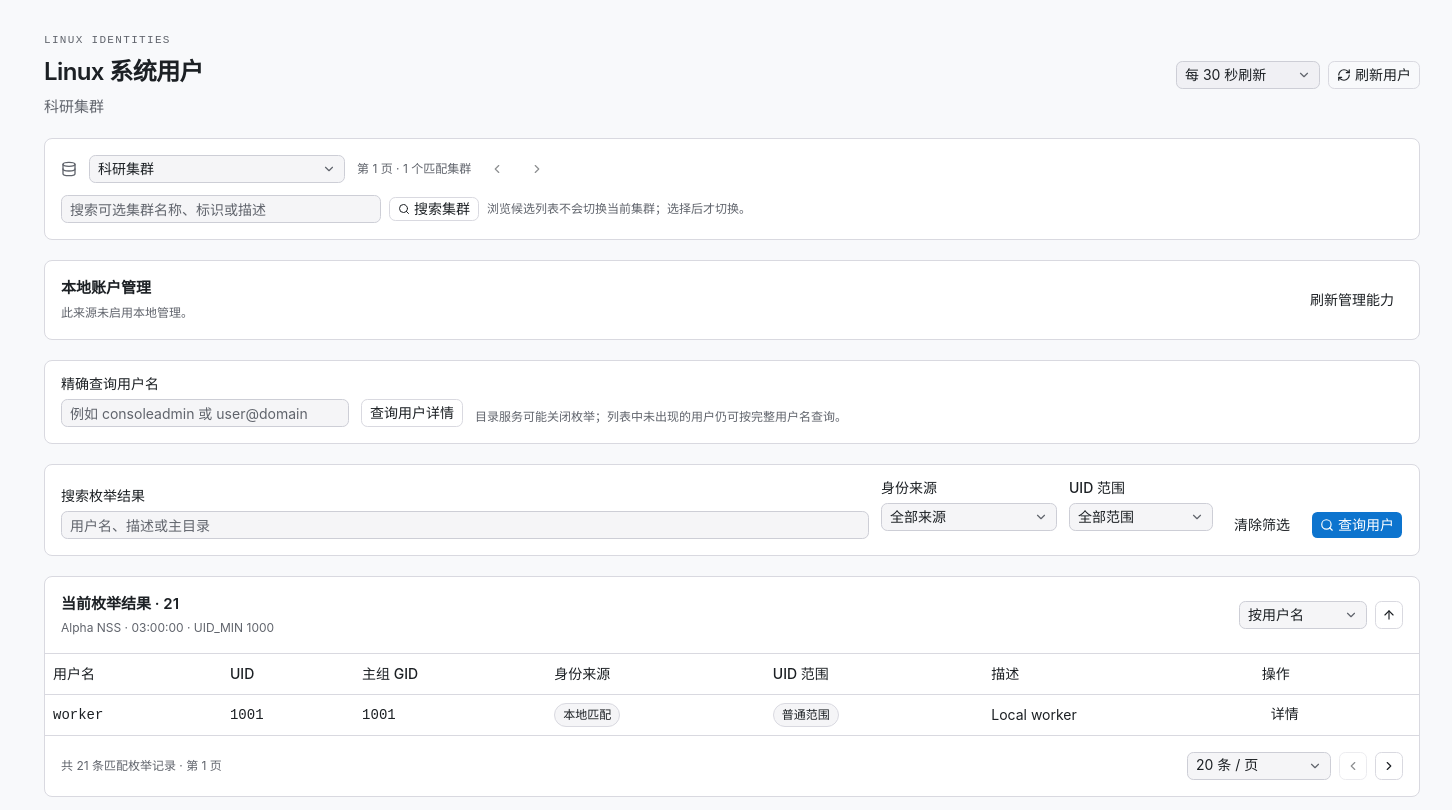
枚举查询分页、筛选和排序使用 URL，明确显示来源及 UID 范围
The image size is (1452, 810).
Expected: the text "worker" is shown, [53,707,103,723]
Expected: the text "本地匹配" is shown, [554,702,620,726]
Click the button named "下一页 Linux 用户": (1389, 766) [1375,752,1403,780]
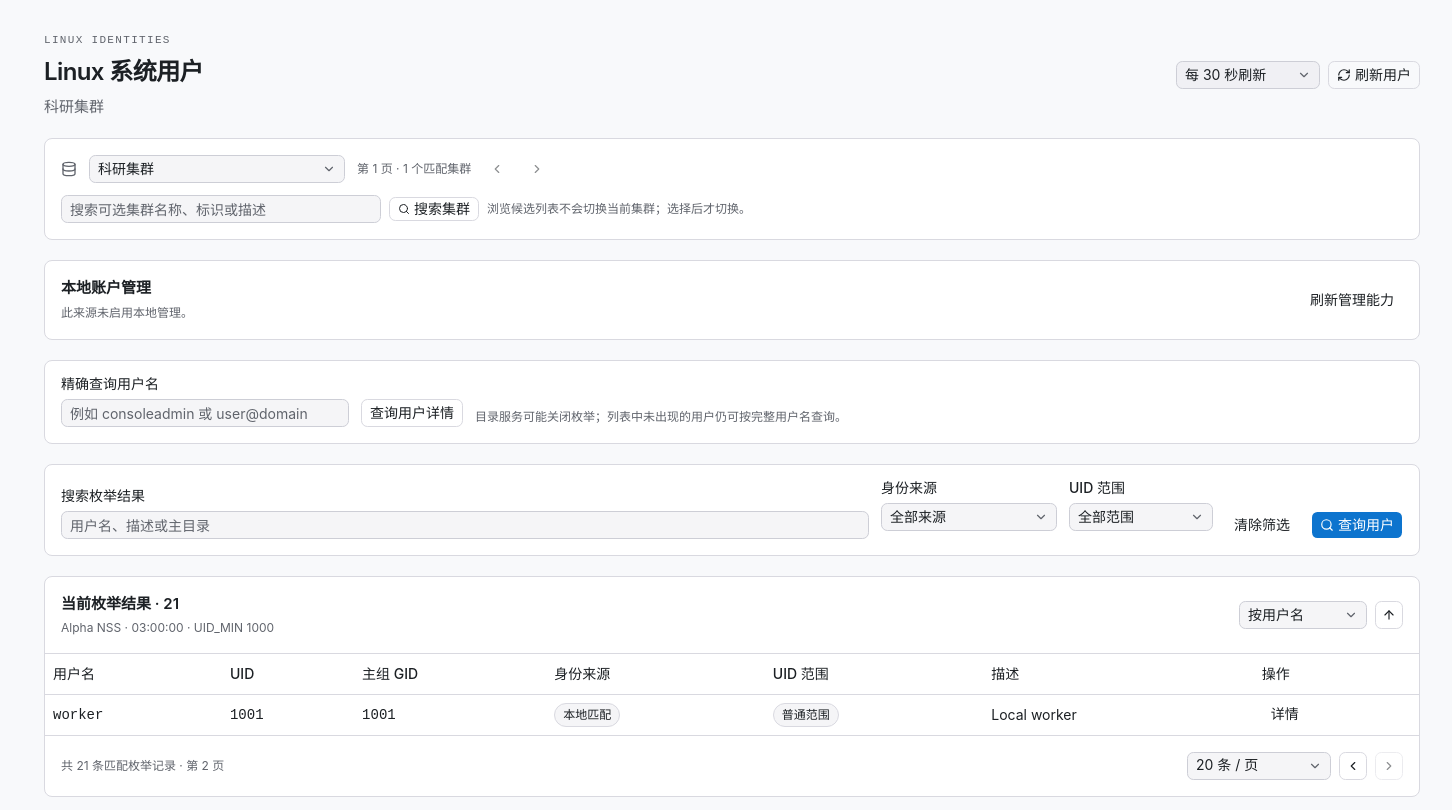
In the field labelled "搜索枚举结果": (465, 525) [61,511,869,539], type "worker"
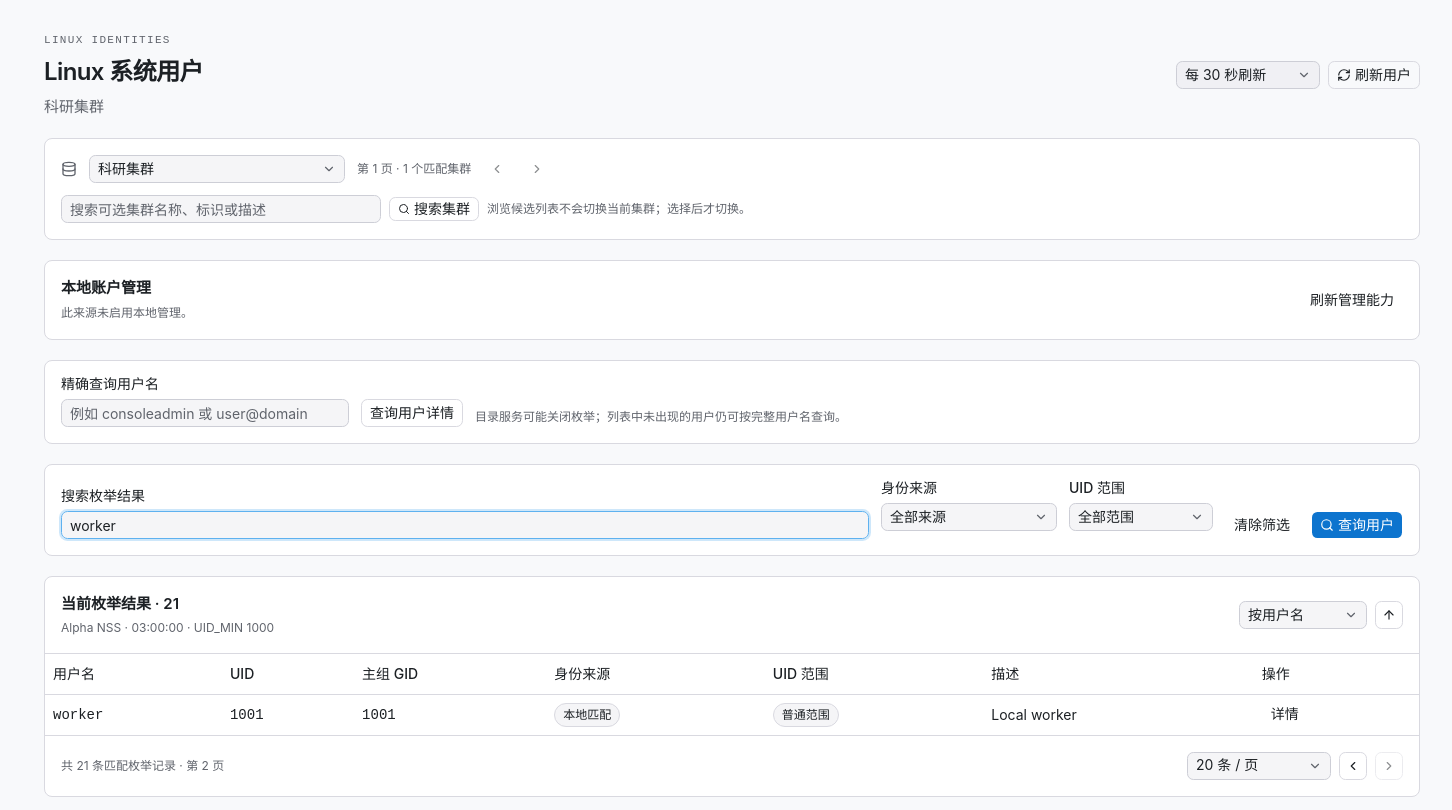
Click the dropdown named "身份来源": (969, 517) [881,503,1057,531]
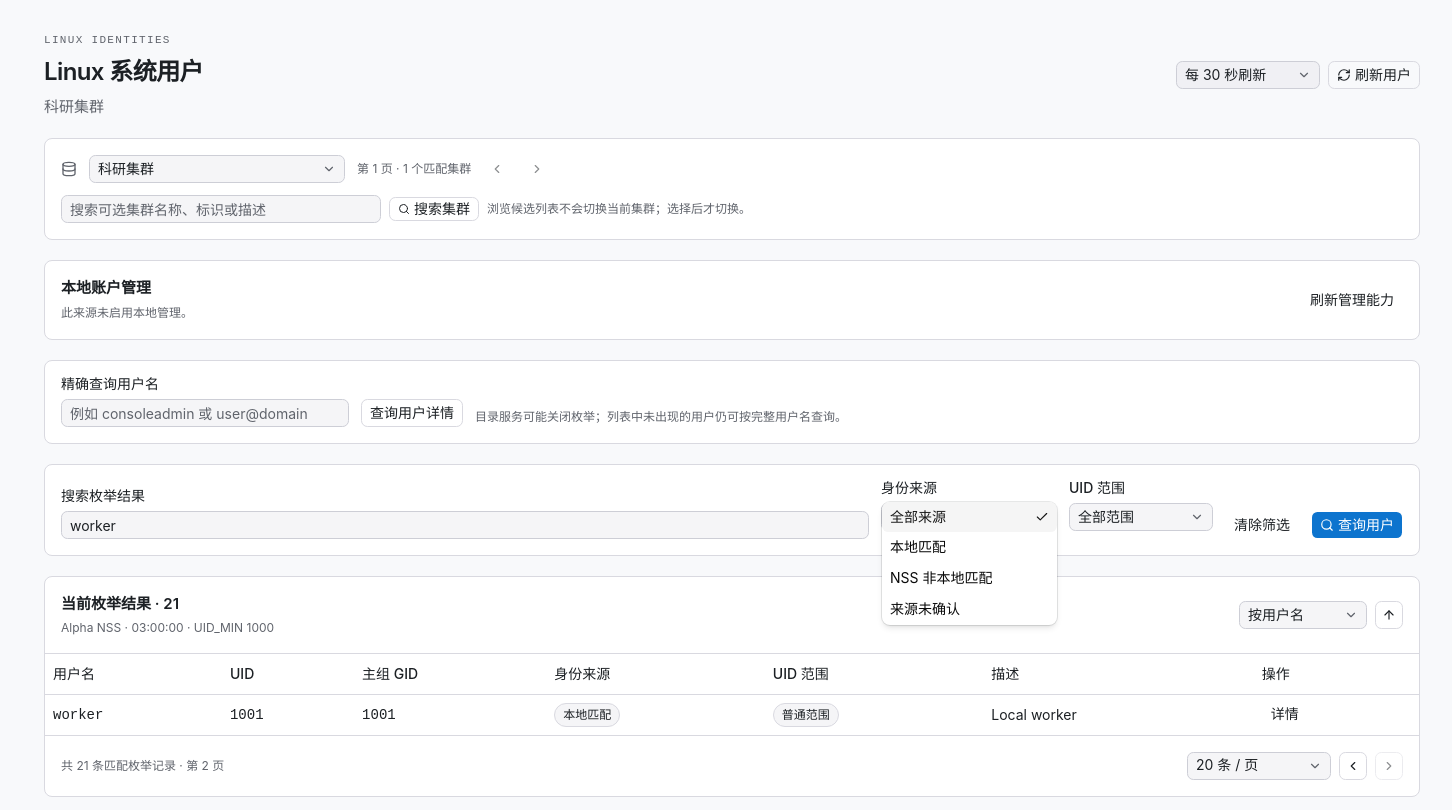
Click the option "本地匹配": (918, 547) [890,538,946,555]
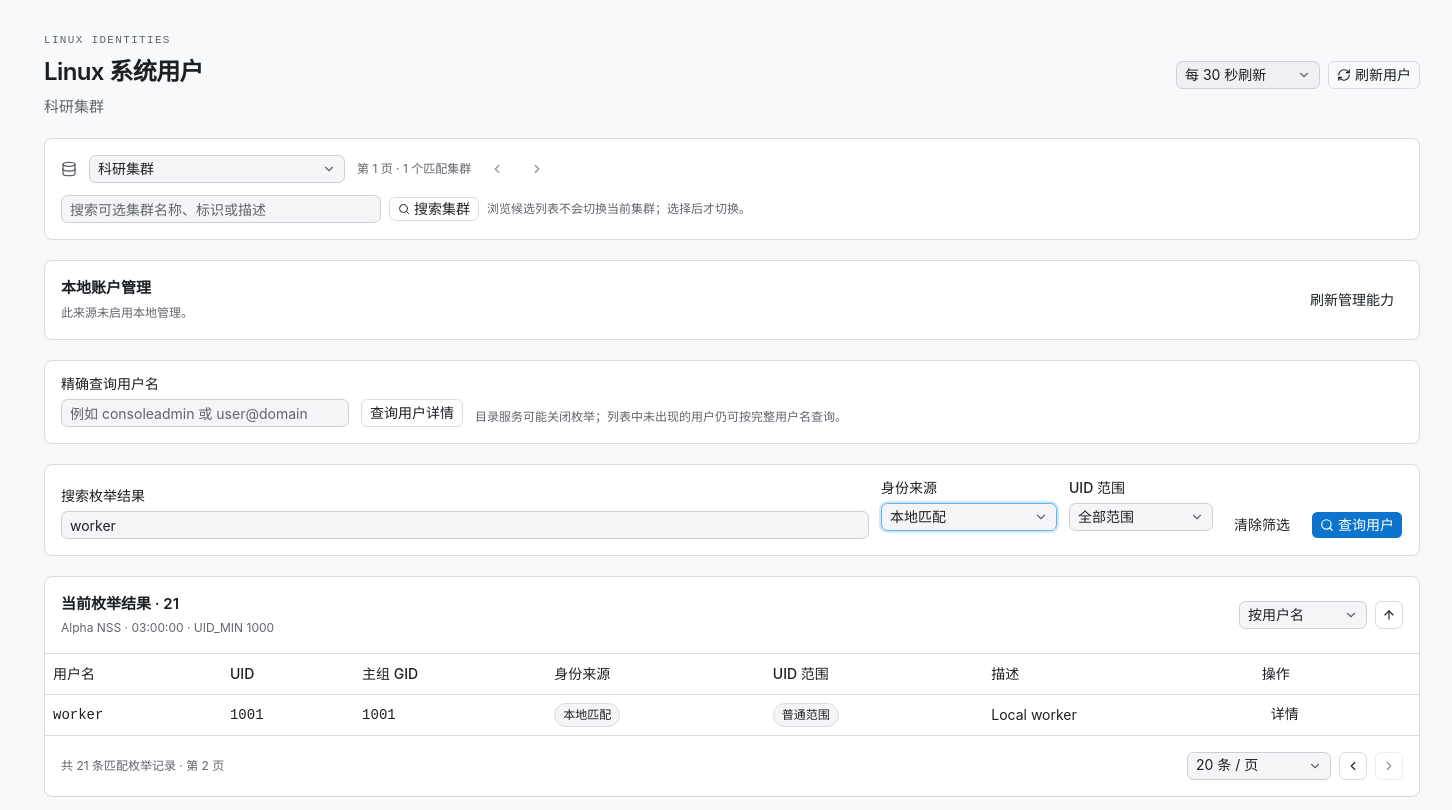
Click the button "查询用户": (1357, 525) [1311,511,1403,539]
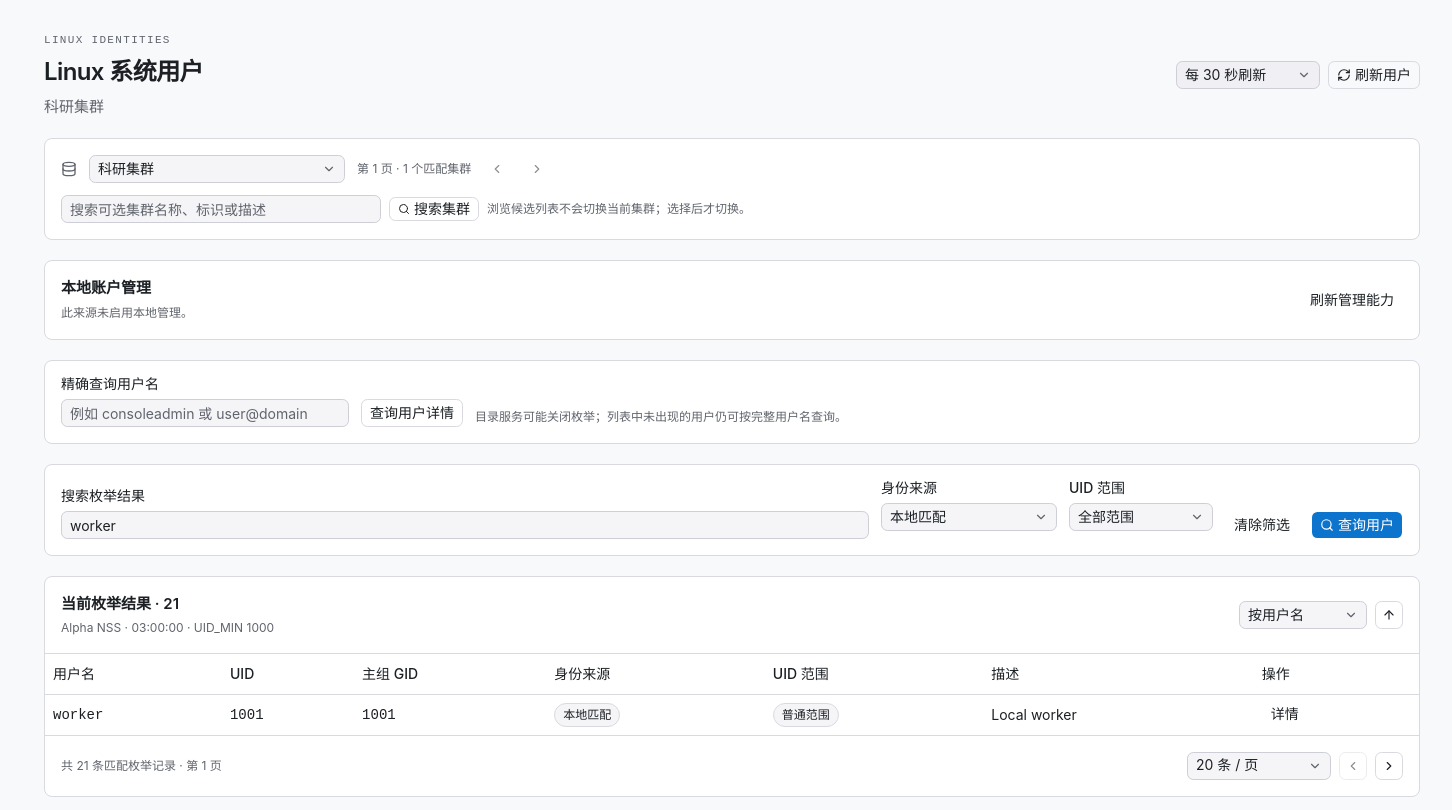
Click the button named "切换 Linux 用户排序方向": (1389, 615) [1375,601,1403,629]
(page scrolled)
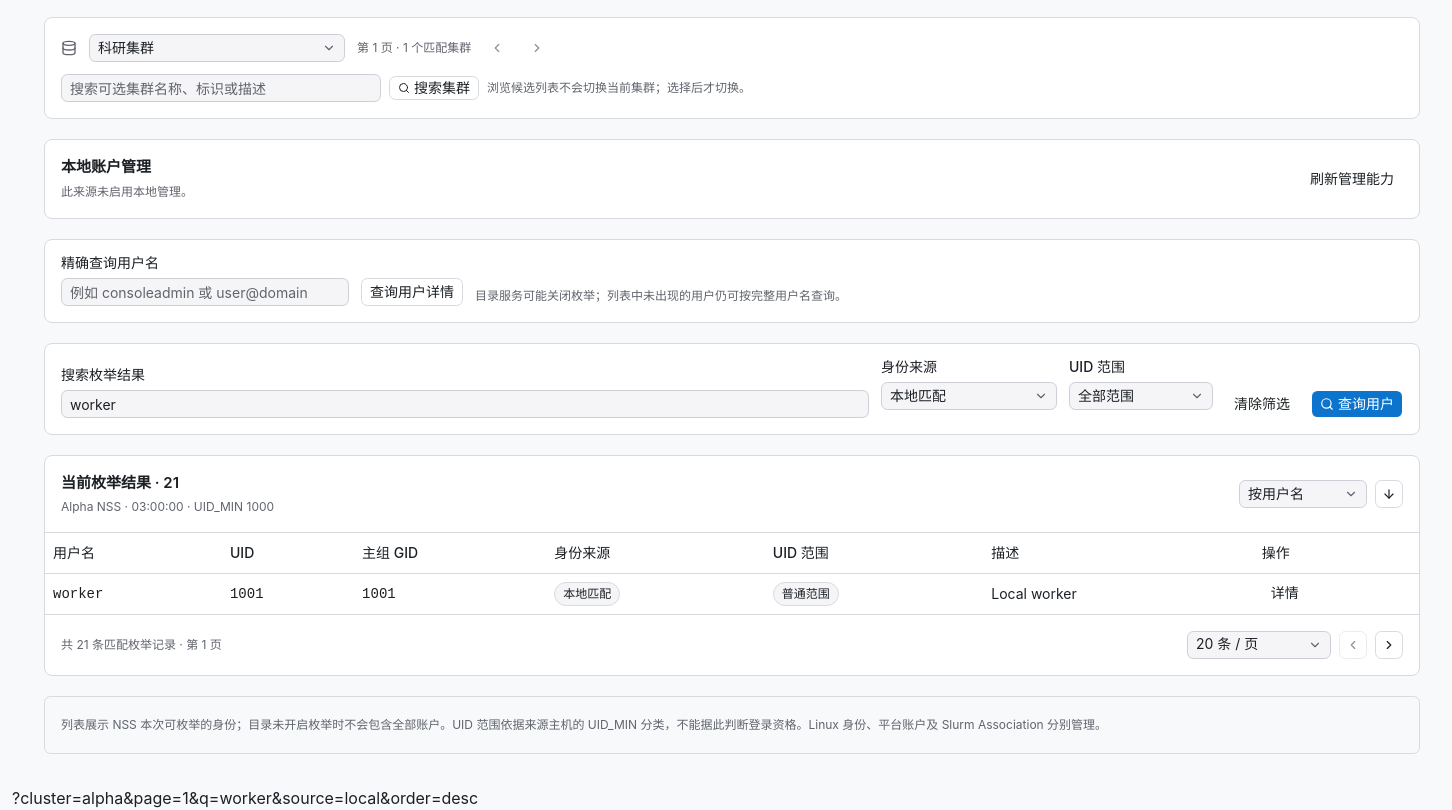
Result: the text named "当前查询" shows "order=desc" at [12,788,478,808]
